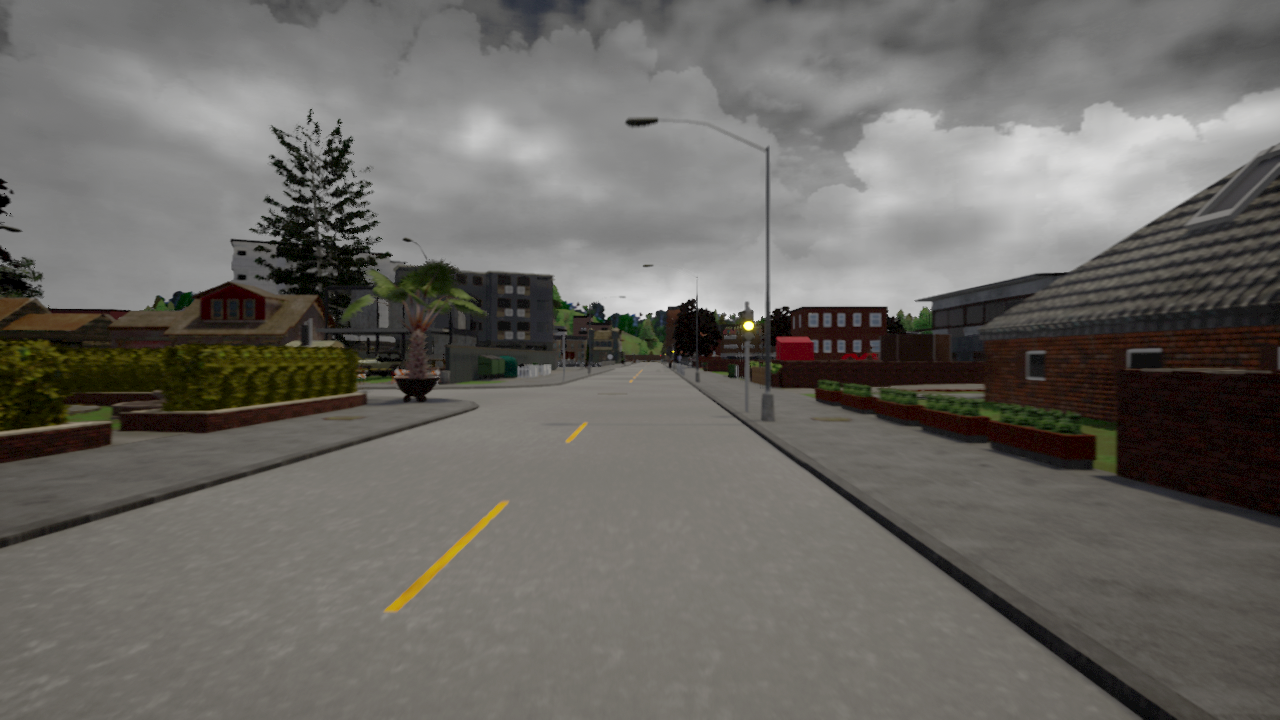yellow: (741, 308, 757, 340)
